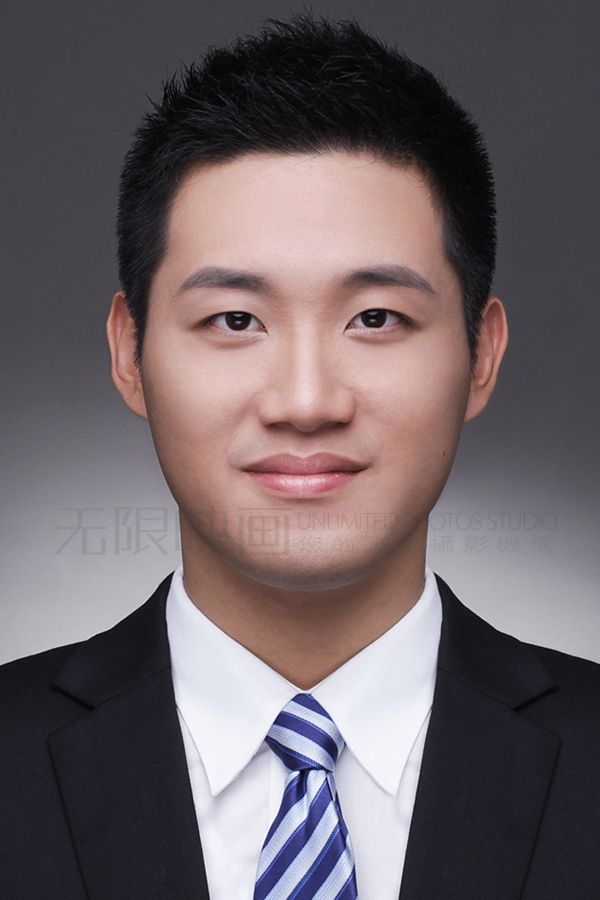unmask: (171, 182, 459, 579)
